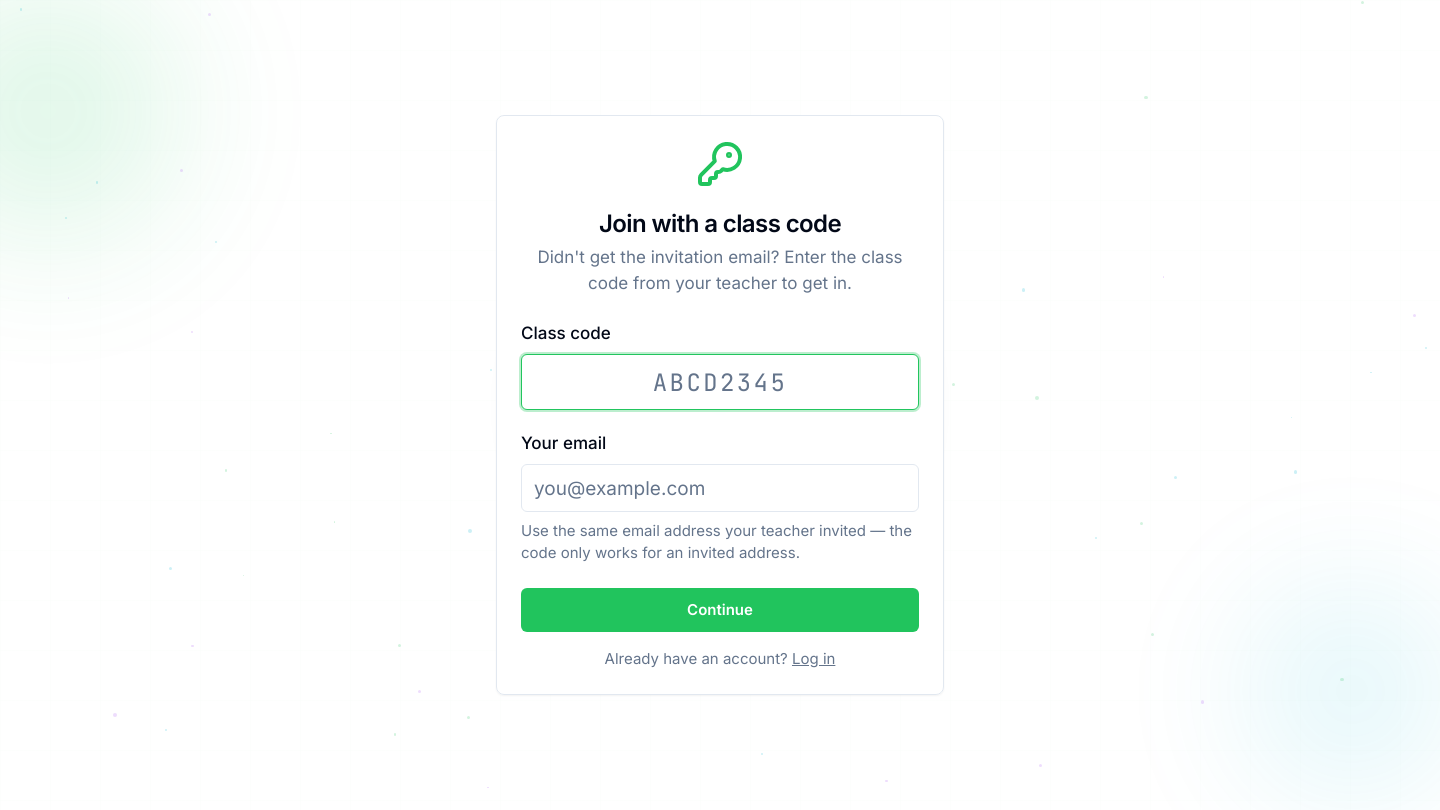
Test: JoinWithCodePage › renders the generic error the API returns for bad input
The image size is (1440, 810).
Type "WRONG123" into the field labelled "Class code".
click(720, 382); type("WRONG123")  # box left=521, top=354, right=919, bottom=410
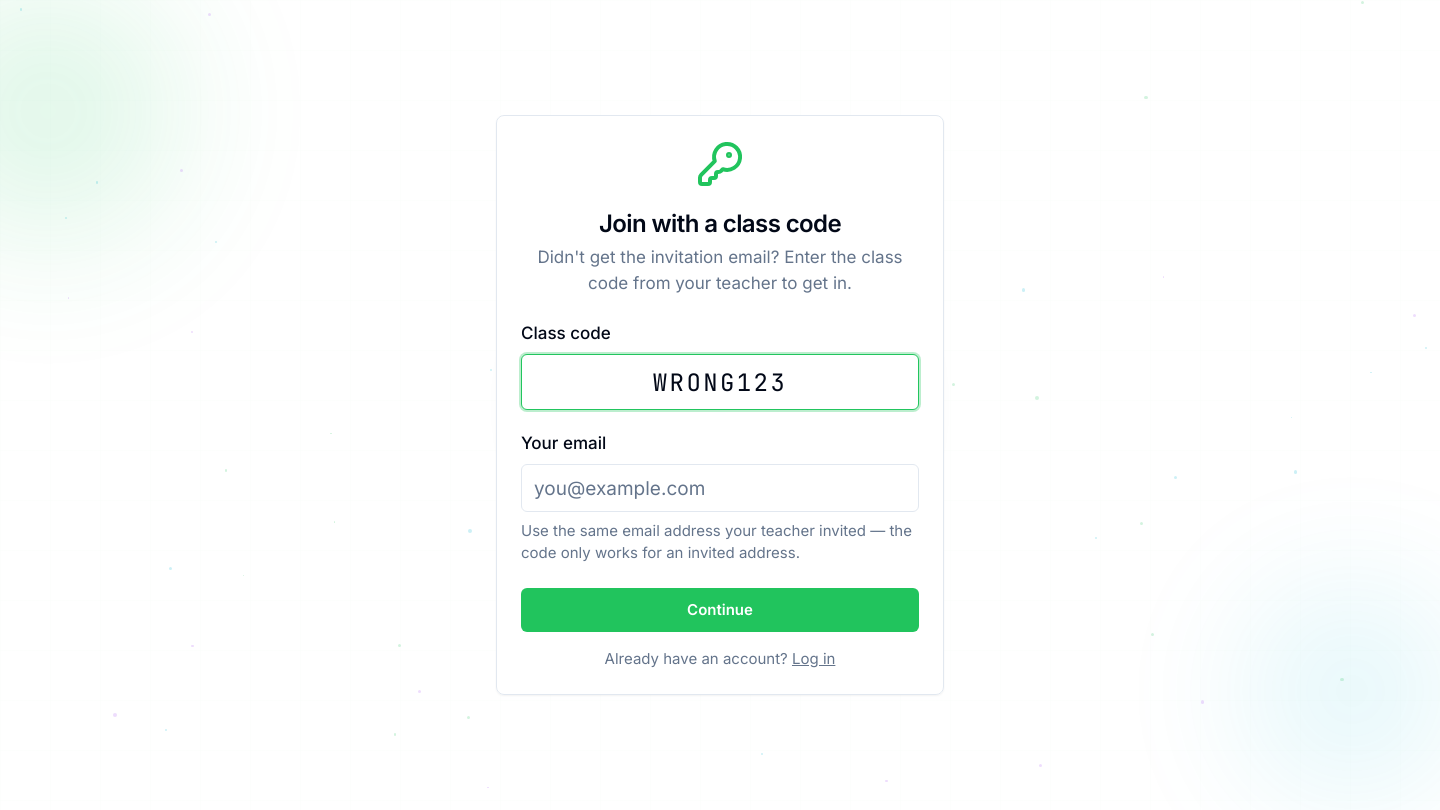
Type "nobody@example.com" into the field labelled "Your email".
click(720, 488); type("nobody@example.com")  # box left=521, top=464, right=919, bottom=512
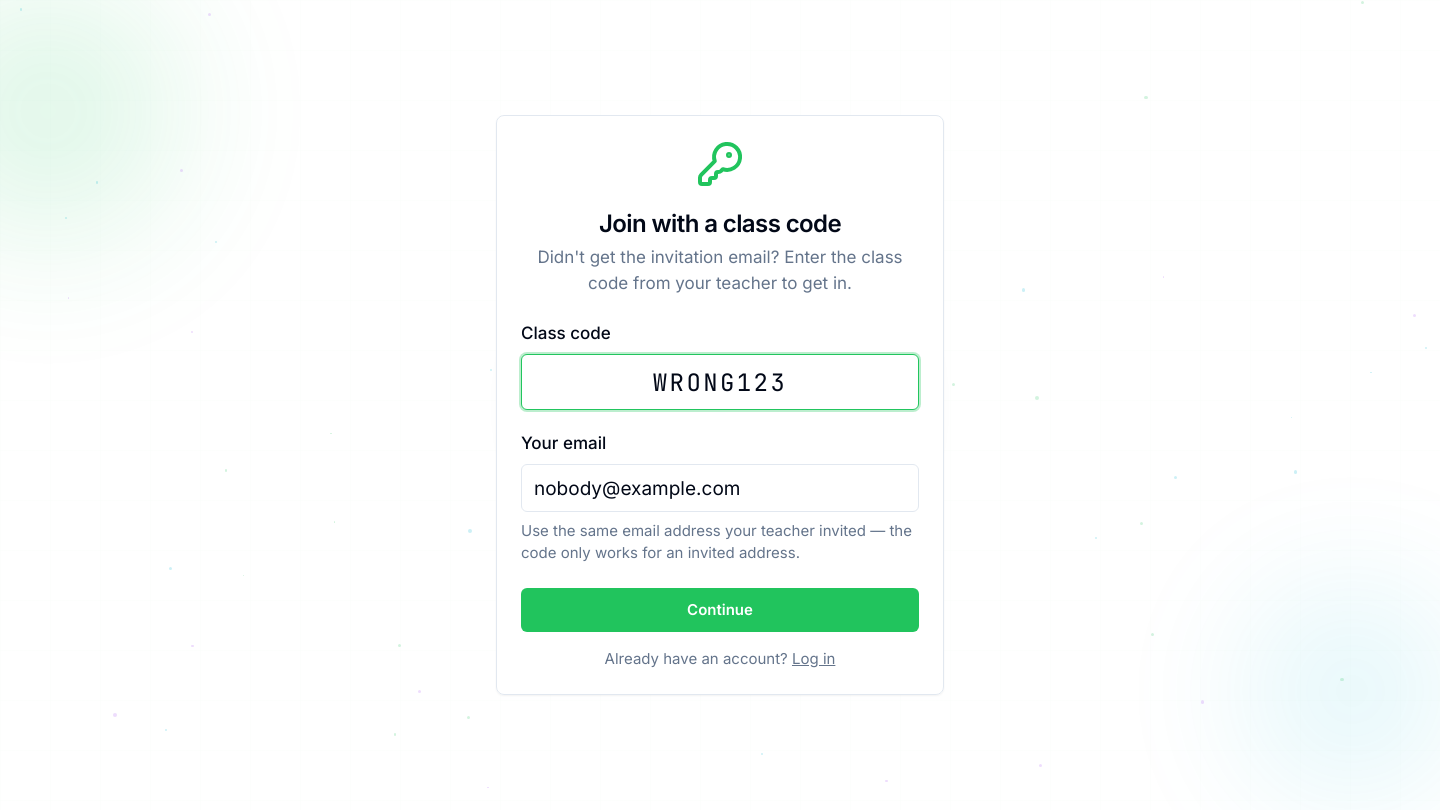
Click the button "Continue".
click(720, 610)  # box left=521, top=588, right=919, bottom=632
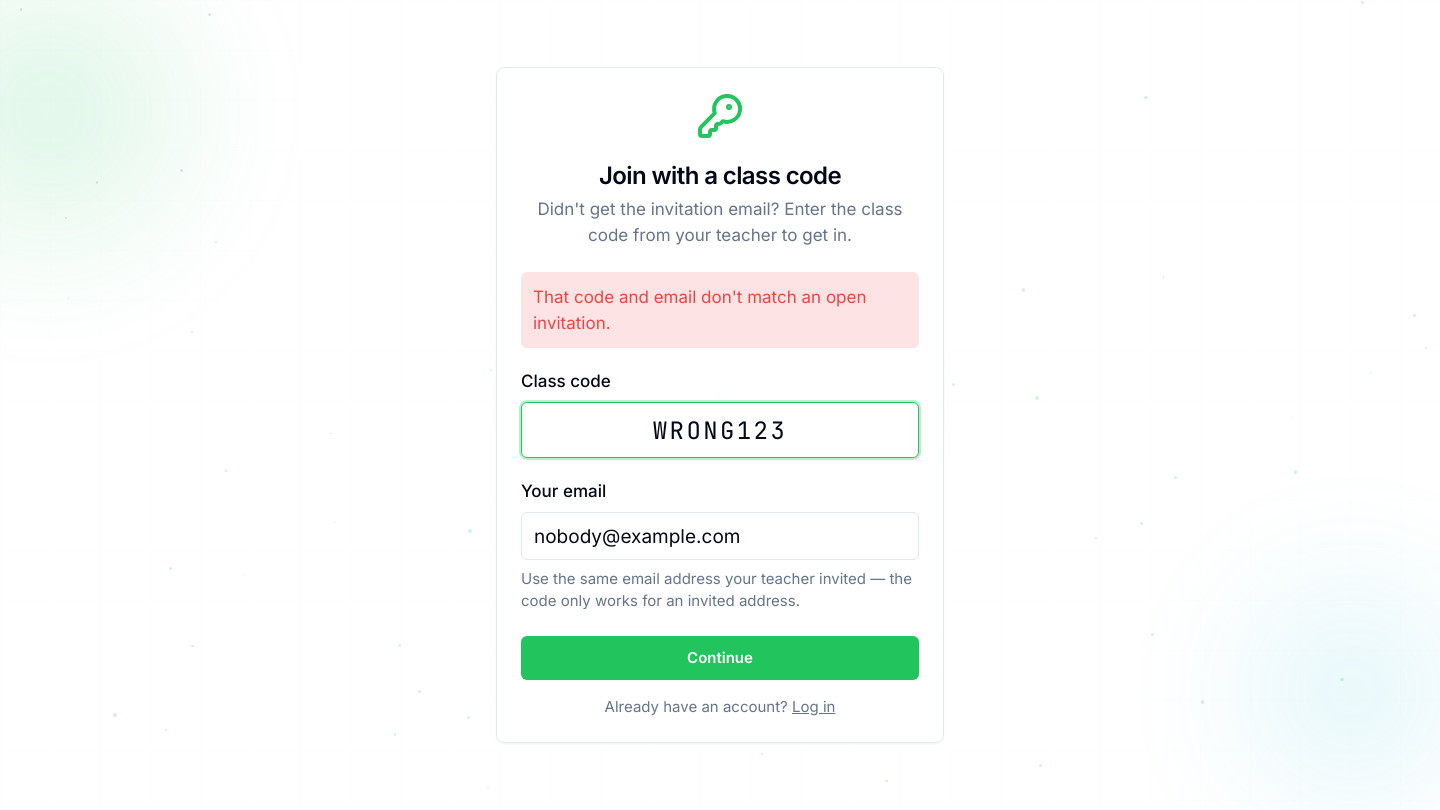
Now the message reads "That code and email don't match an open invitation.", box left=533, top=287, right=866, bottom=333
